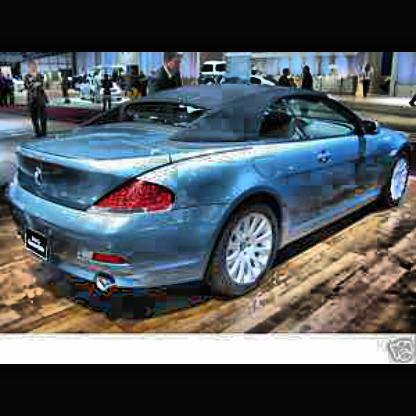BMW 6 Series Convertible 2007: (10, 76, 413, 300)
